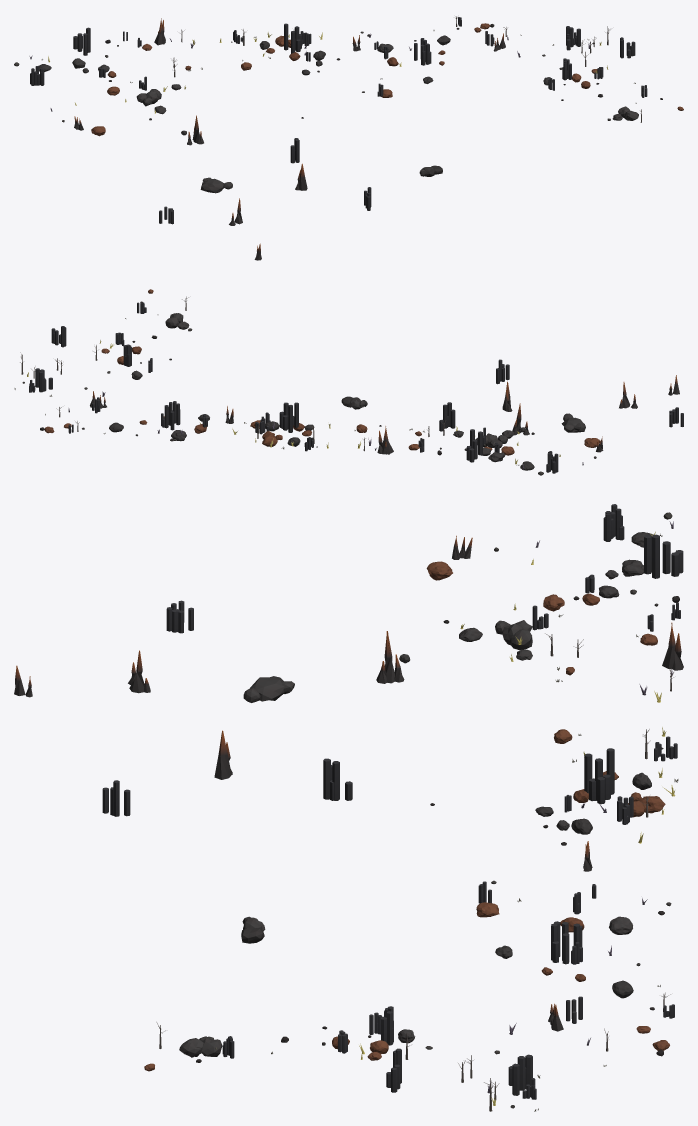
The model's file is ash_land_scatter_c18_28.glb.
The picture shows the model from 3 angles, top to bottom: view 1: azimuth 30°, elevation 25°; view 2: azimuth 150°, elevation 25°; view 3: azimuth 270°, elevation 25°; orthographic projection. The views are drawn at different scales.
Visible parts, largest first — view 1: ash_land_scatter_c18_28; view 2: ash_land_scatter_c18_28; view 3: ash_land_scatter_c18_28.
Part boxes in pixels (box(x1,y1,x2,y2)): ash_land_scatter_c18_28: box(14, 16, 683, 260); ash_land_scatter_c18_28: box(14, 289, 683, 475); ash_land_scatter_c18_28: box(14, 504, 683, 1111).
Size of the model in its own units: 251 by 51.86 by 152.
